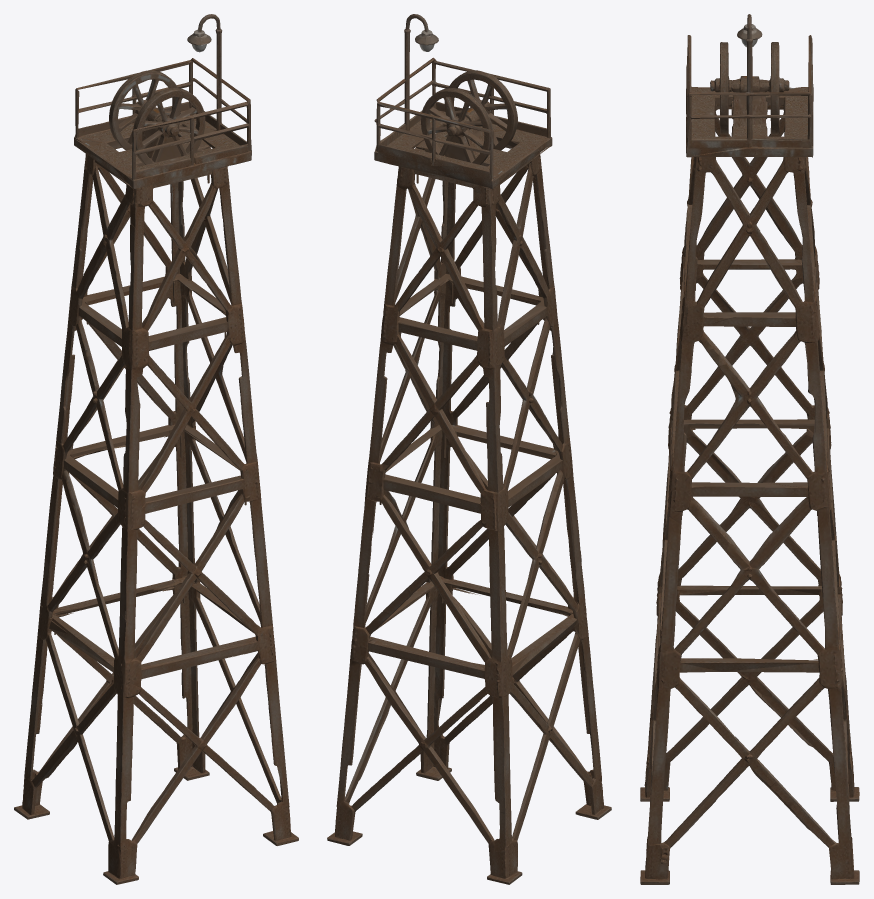
Rendered from lattice_headframe_slim.glb.
3 views of the same model, side by side, from view 1: azimuth 30°, elevation 25°; view 2: azimuth 150°, elevation 25°; view 3: azimuth 270°, elevation 25° (orthographic). The views are drawn at different scales.
Bounding box in the file's own units: 0.4555 × 1.9 × 0.4444.
1 material, 1 textured.
